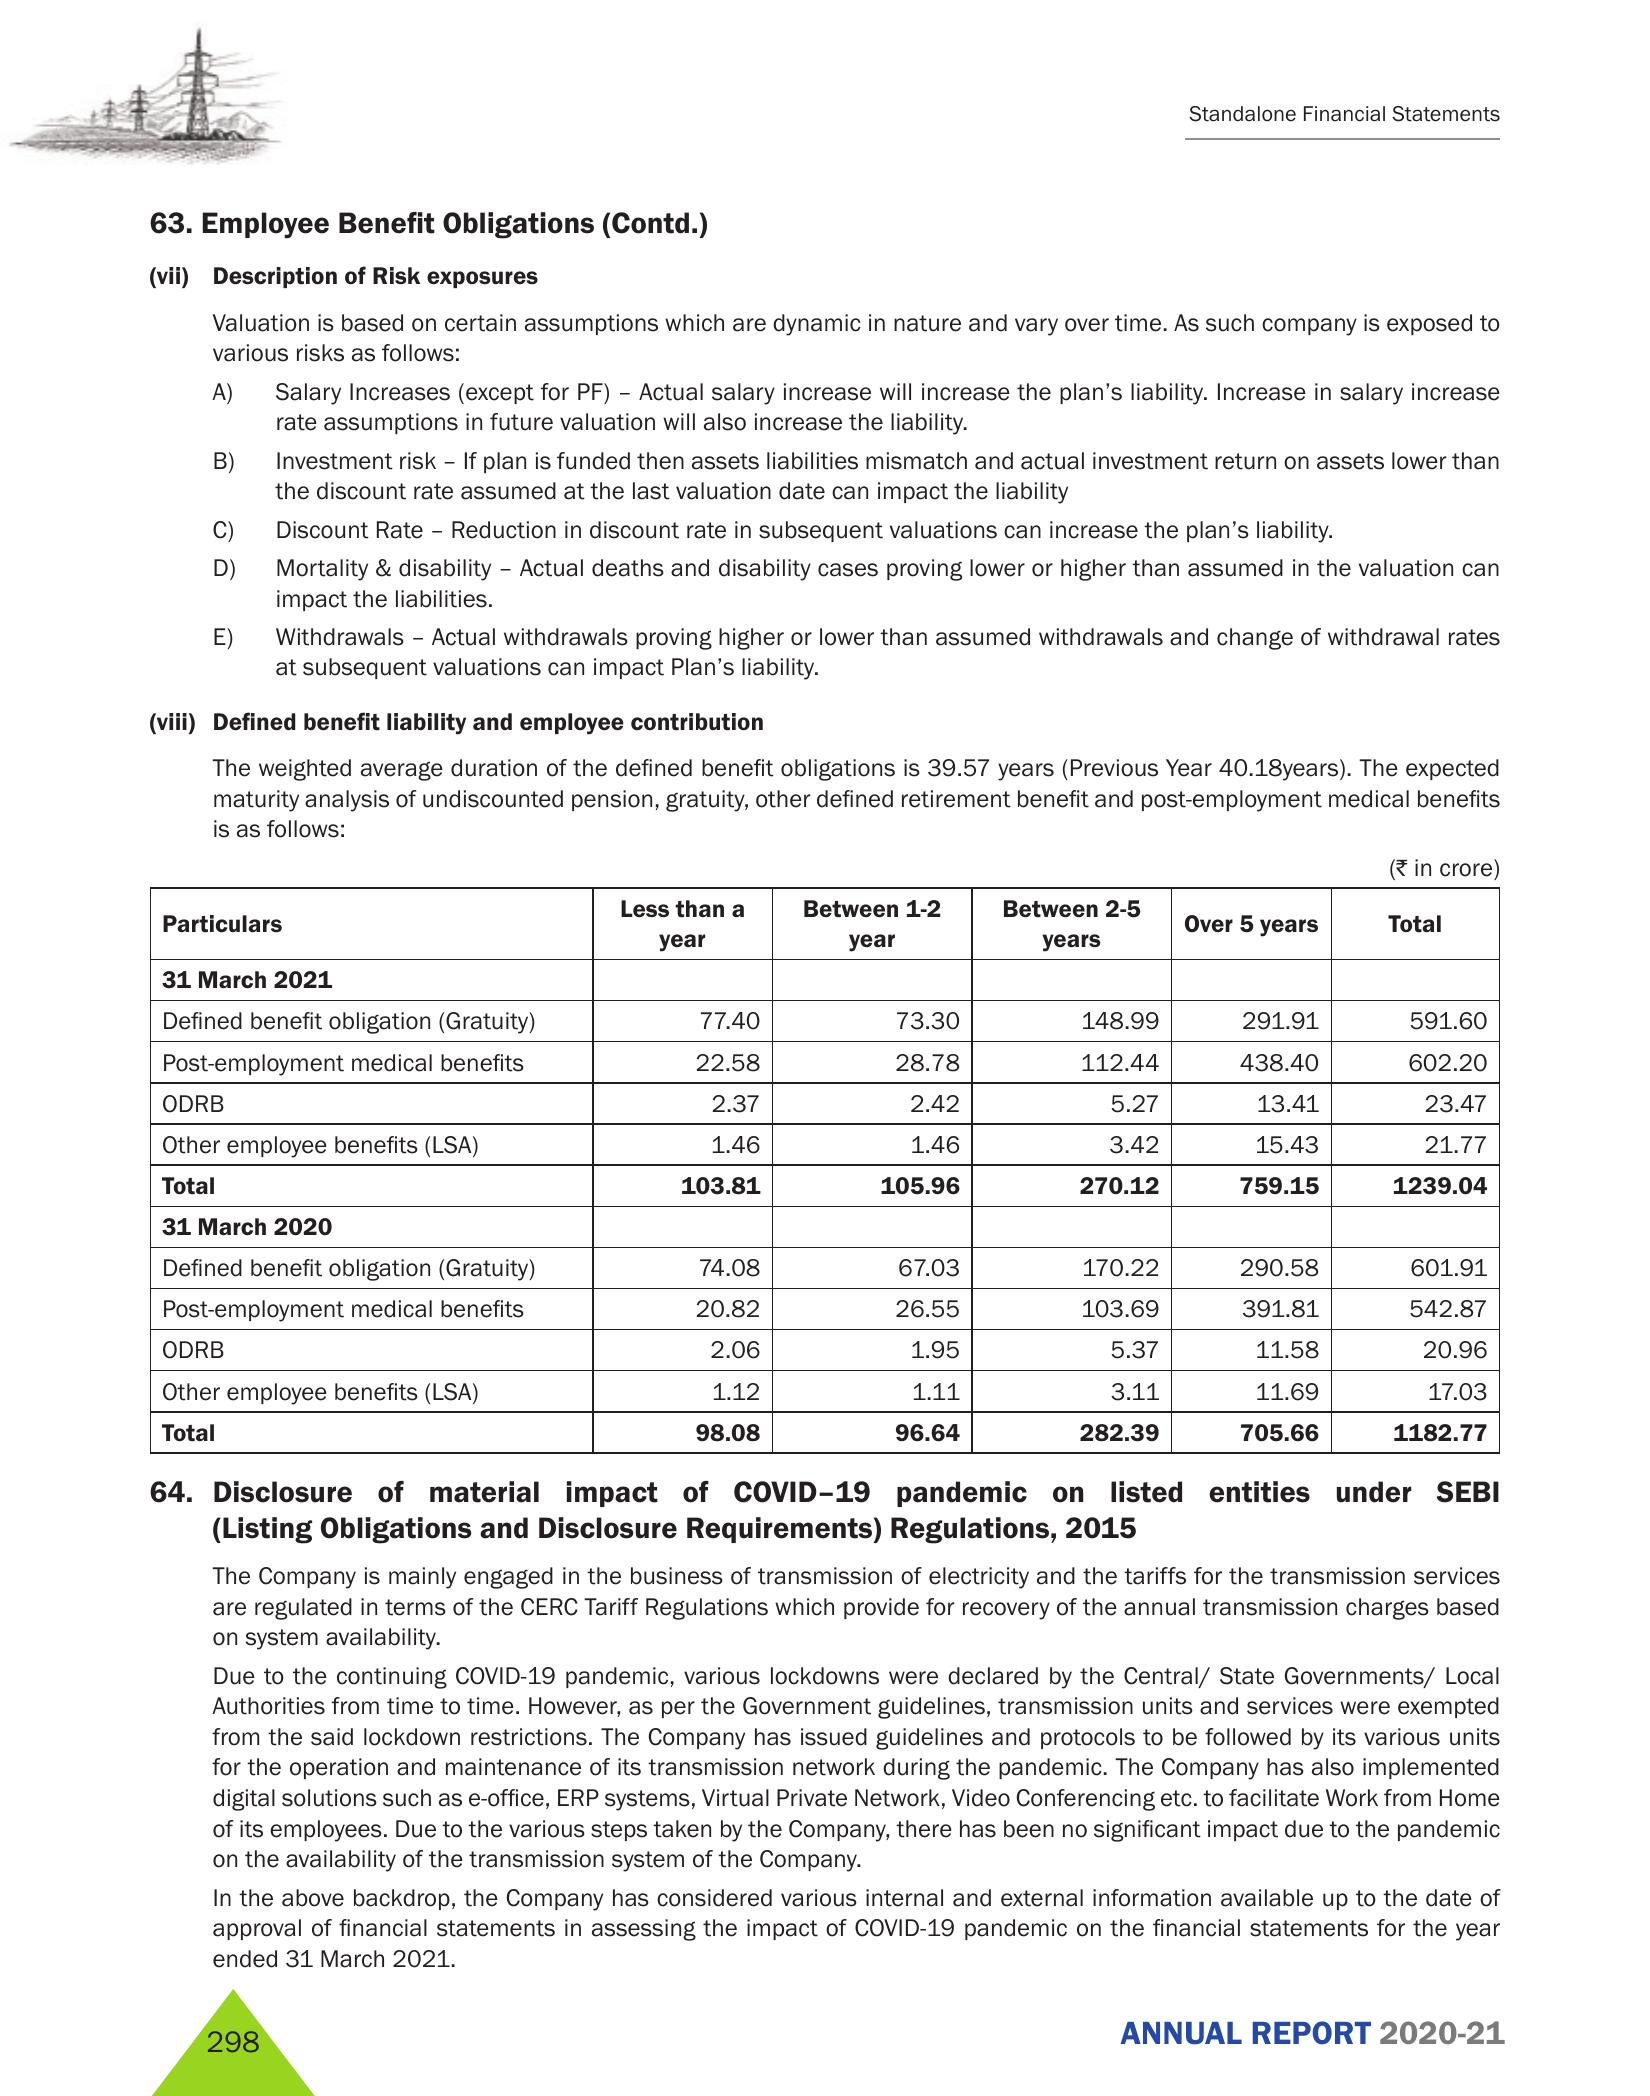Footer: (0, 1974, 1650, 2096)
Header: (0, 0, 1650, 172)
Table: (139, 883, 1499, 1460)
